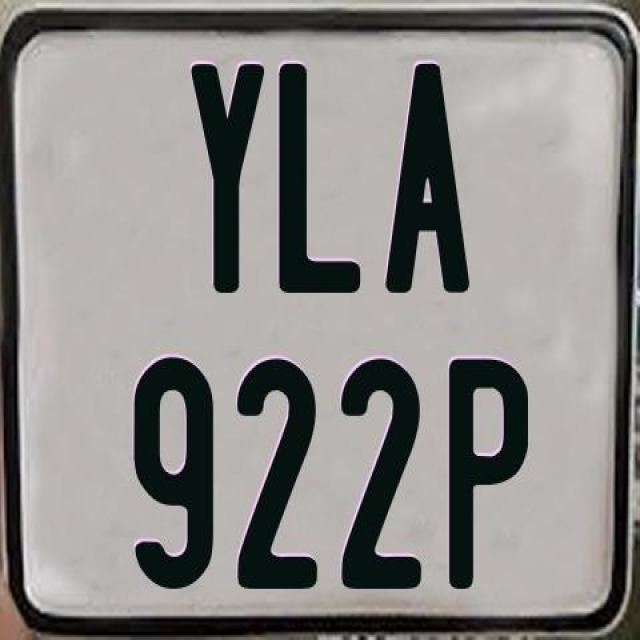2: (340, 356, 424, 588), (238, 358, 318, 590)
9: (134, 354, 218, 586)
A: (384, 60, 476, 298)
L: (278, 62, 362, 301)
P: (446, 358, 534, 597)
Y: (190, 59, 272, 288)
